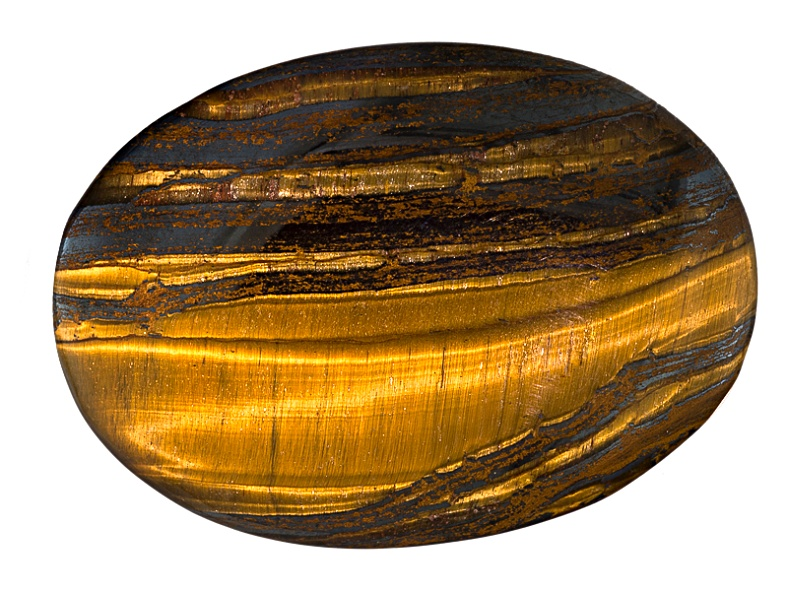Tigers_Eye: (54, 39, 760, 547)
